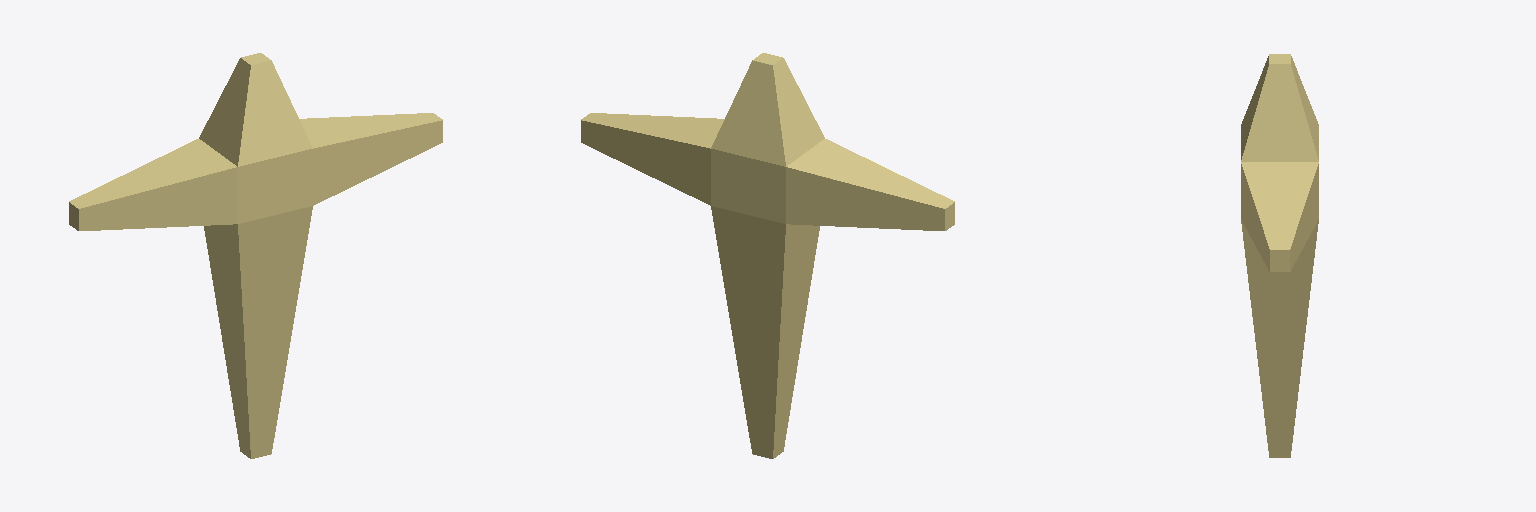
Rendered from cruz.obj.
3 renders of one model, left to right at view 1: azimuth 30°, elevation 25°; view 2: azimuth 150°, elevation 25°; view 3: azimuth 270°, elevation 25°, orthographic.
Parts seen in each view (by area): view 1: Box001; view 2: Box001; view 3: Box001.
Part boxes in pixels (left/top/right/bottom): Box001: left=69, top=53, right=442, bottom=458; Box001: left=581, top=53, right=954, bottom=458; Box001: left=1241, top=54, right=1318, bottom=457.
Size of the model in its own units: 8.47 by 8.74 by 1.57.